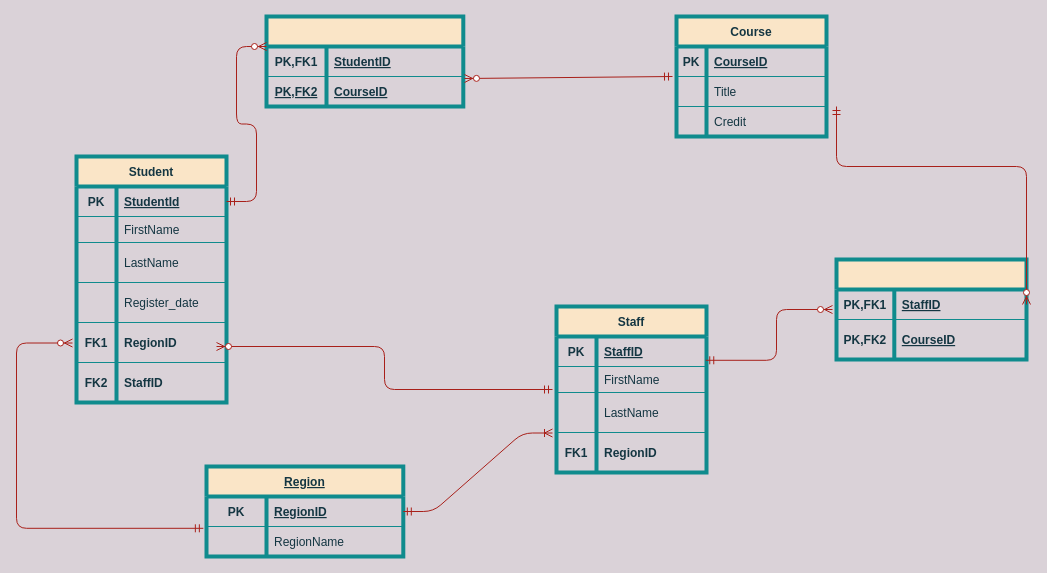
This 1047x573 diagram has some shape labels left out. Here are the shapes that lost their labels. From the top down, the box of each, then its label:
(264, 14, 465, 108): Enrollment
(834, 257, 1028, 361): StaffCourse
